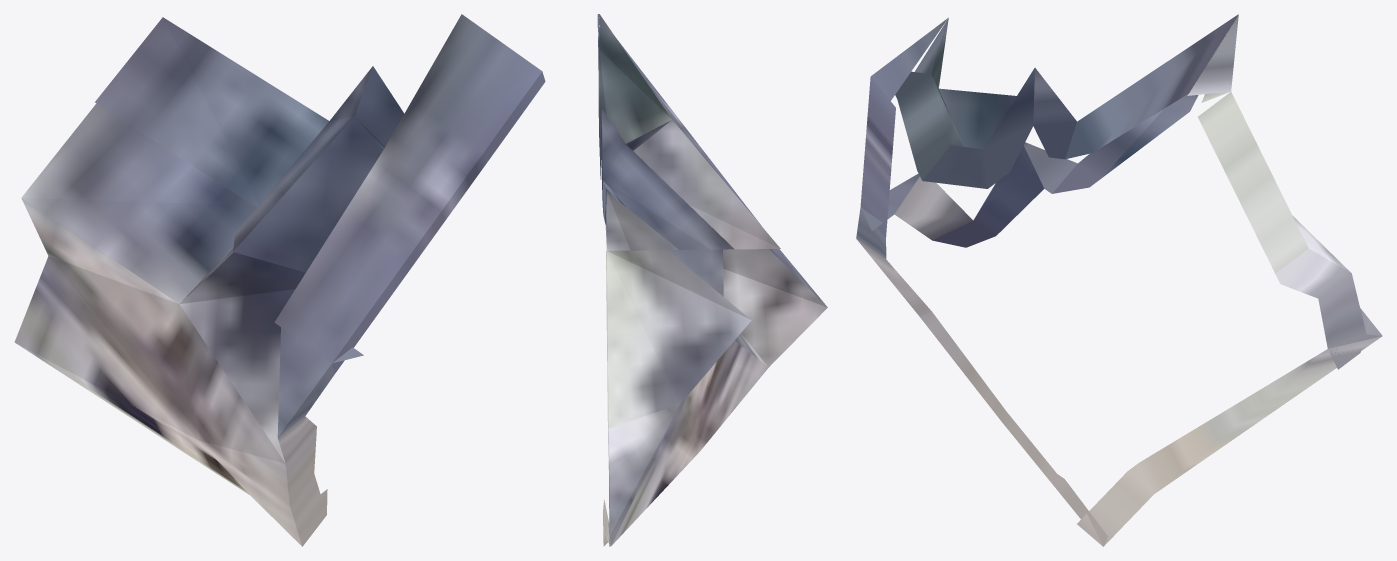
3 renders of one model, left to right at view 1: azimuth 30°, elevation 25°; view 2: azimuth 150°, elevation 25°; view 3: azimuth 270°, elevation 25°, orthographic. The views are drawn at different scales.
Bounding box in the file's own units: 9.13 × 13.43 × 11.25.
Materials: 1 (1 with a texture image).
